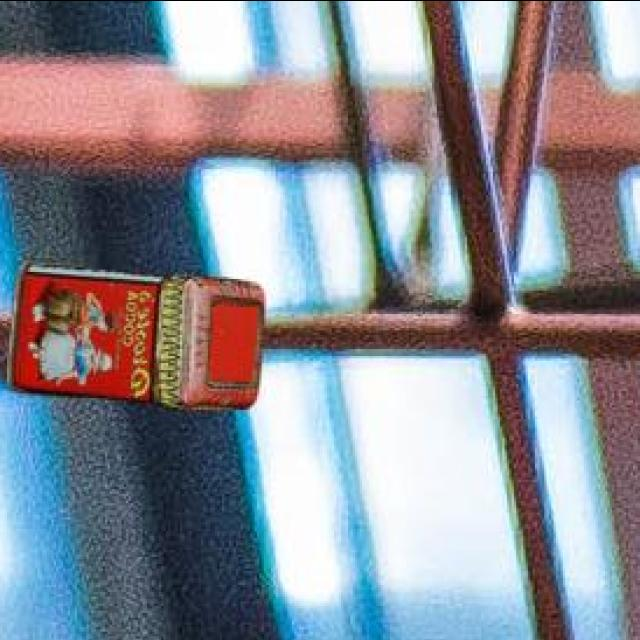logam: (11, 263, 267, 412)
